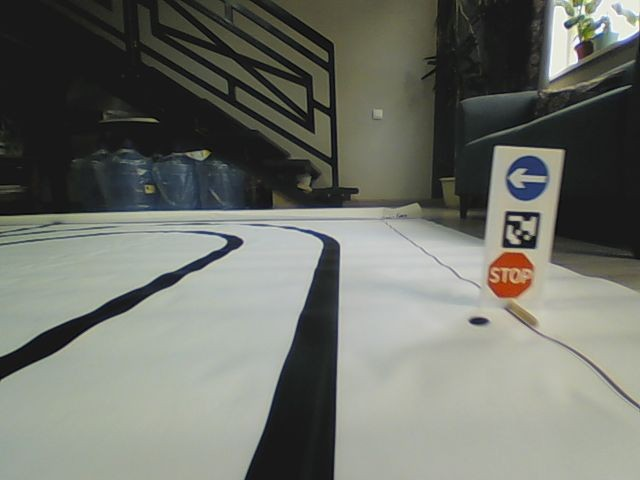Stop: (485, 250, 536, 299)
